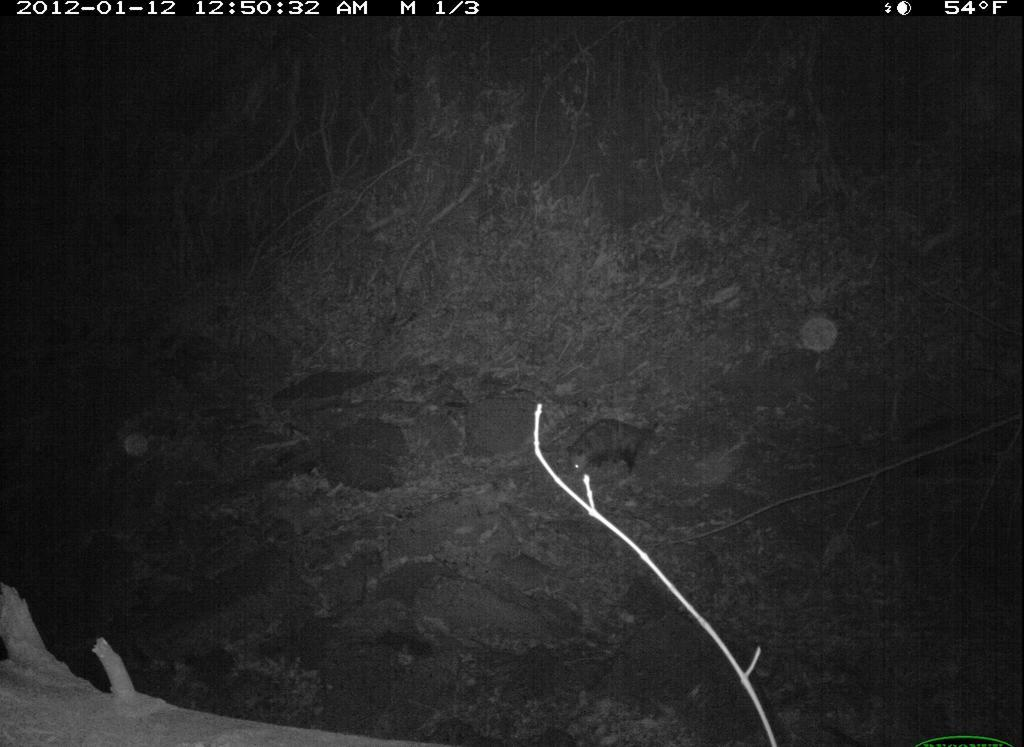opossum: (555, 402, 675, 489)
